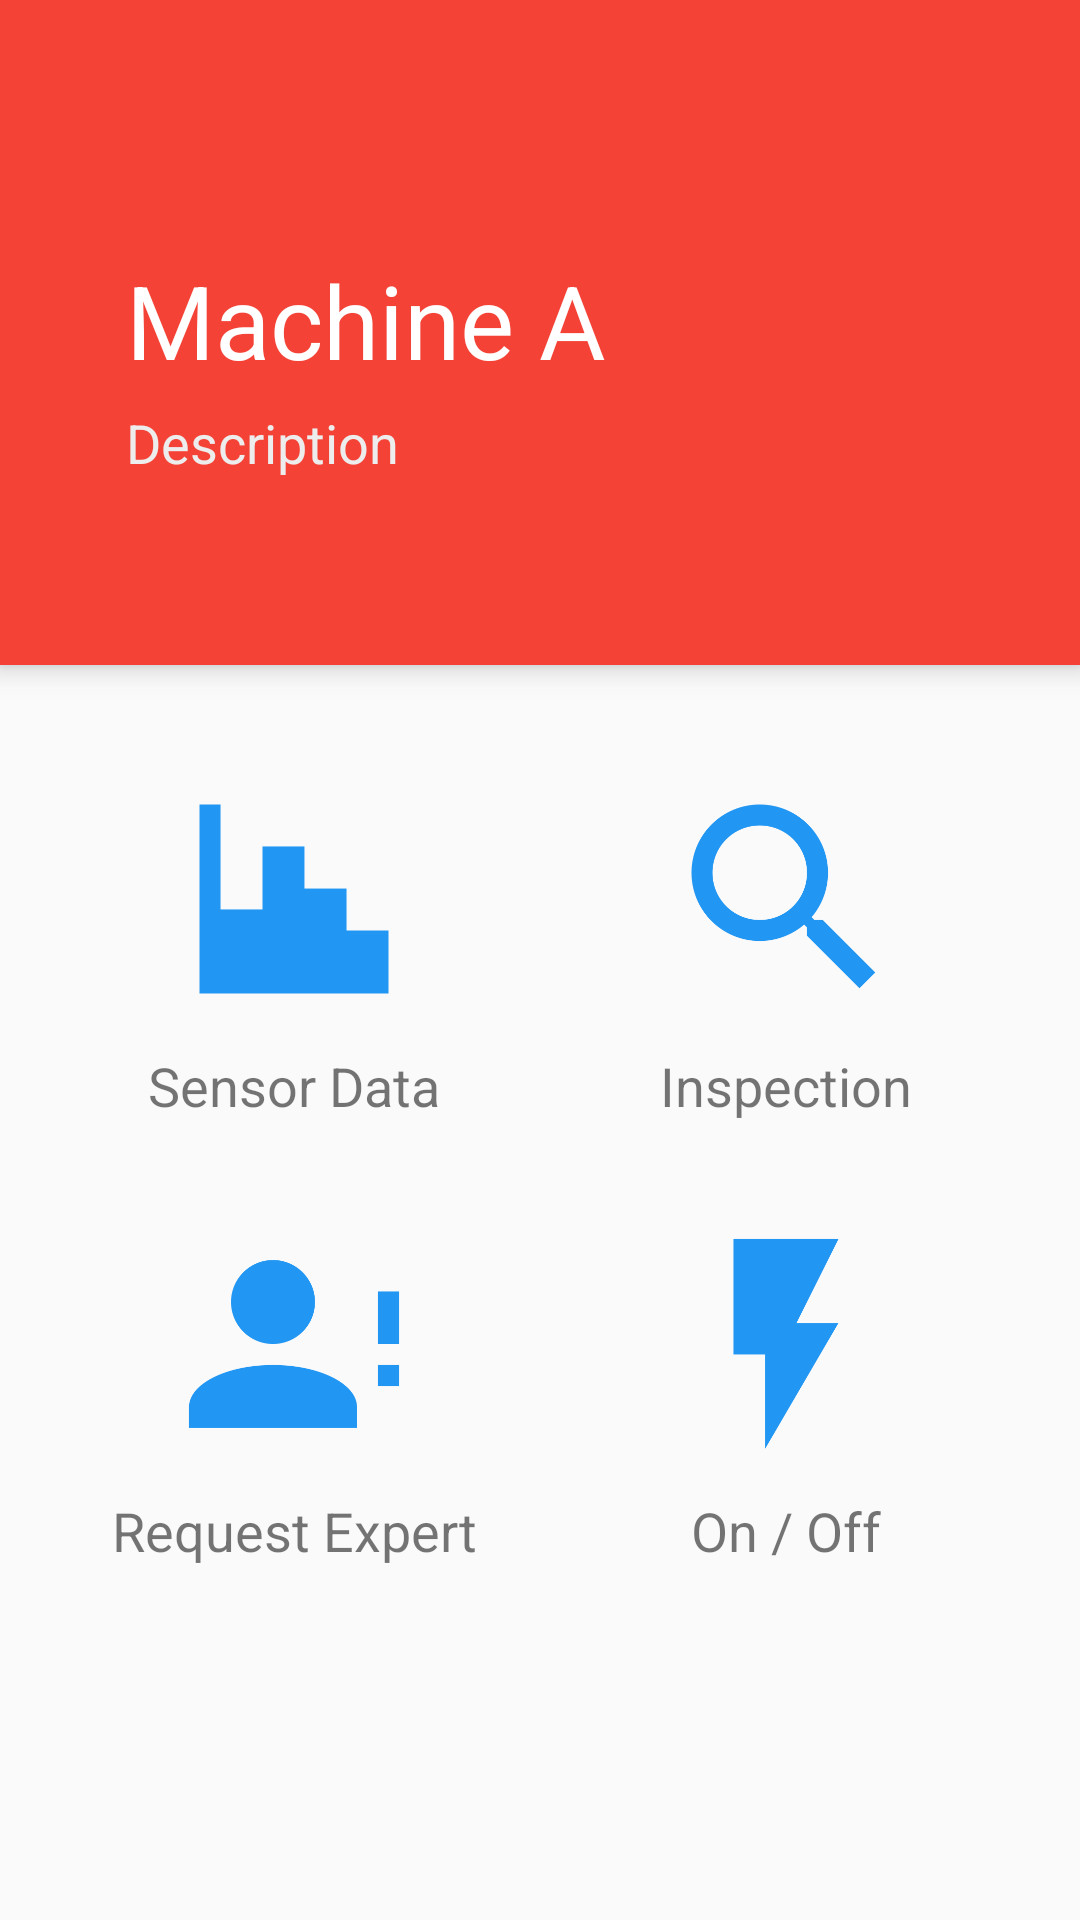

Icons on this 1080 × 1920 Android screen, each with the point to tap as [x,y]:
flash: [786,1344]
